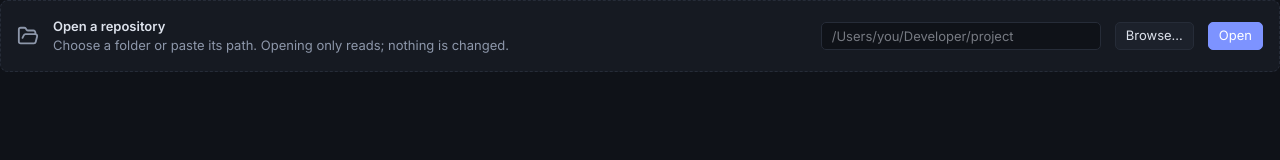
empty path is rejected before calling the backend
Click the button "Open" at (1235, 36), box left=1208, top=22, right=1263, bottom=50
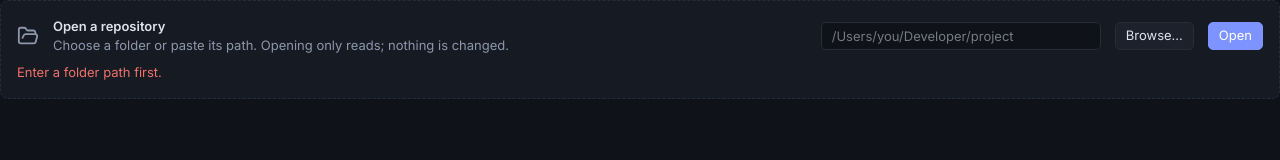
Expected: the message reads "Enter a folder path first.", left=17, top=64, right=162, bottom=80
